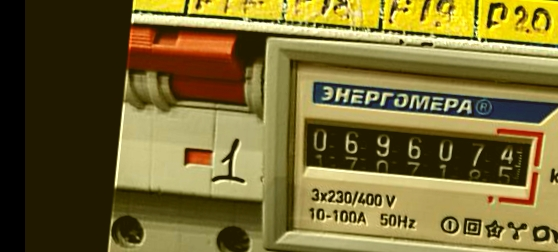0: (310, 126, 331, 153), (436, 136, 456, 163)
4: (499, 141, 517, 165)
5: (496, 164, 514, 186)
6: (404, 133, 425, 161), (342, 128, 362, 155)
7: (468, 140, 487, 168)
9: (374, 130, 392, 158)
screen: (288, 104, 548, 210)
